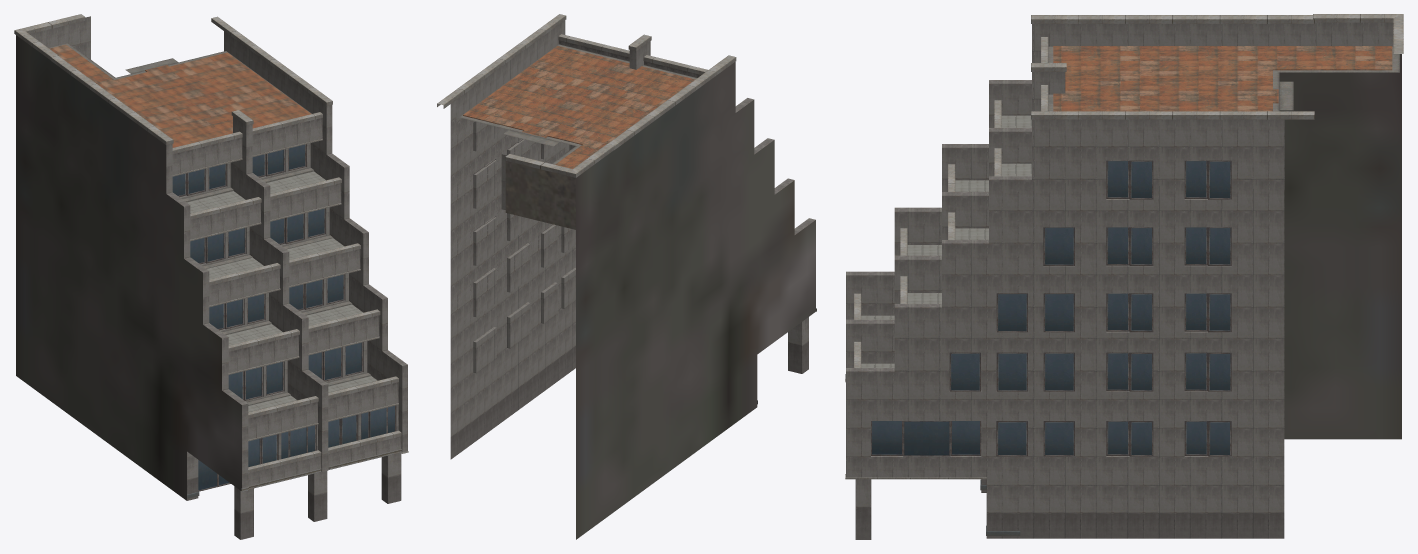
The model's file is House_03.fbx.
3 views of the same model, side by side, from view 1: azimuth 30°, elevation 25°; view 2: azimuth 150°, elevation 25°; view 3: azimuth 270°, elevation 25° (orthographic). The views are drawn at different scales.
Visible parts, largest first — view 1: Hotel_STR_House_03; view 2: Hotel_STR_House_03; view 3: Hotel_STR_House_03.
Part boxes in pixels (box(x1,y1,x2,y2)): Hotel_STR_House_03: box(14, 14, 408, 539); Hotel_STR_House_03: box(437, 14, 816, 539); Hotel_STR_House_03: box(845, 14, 1403, 539).
Bounding box in the file's own units: 1212 × 2408 × 2852.
Materials: 3 (3 with a texture image).
